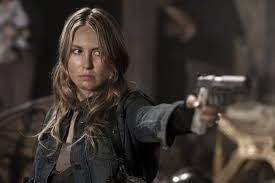pistol: (186, 73, 250, 127)
